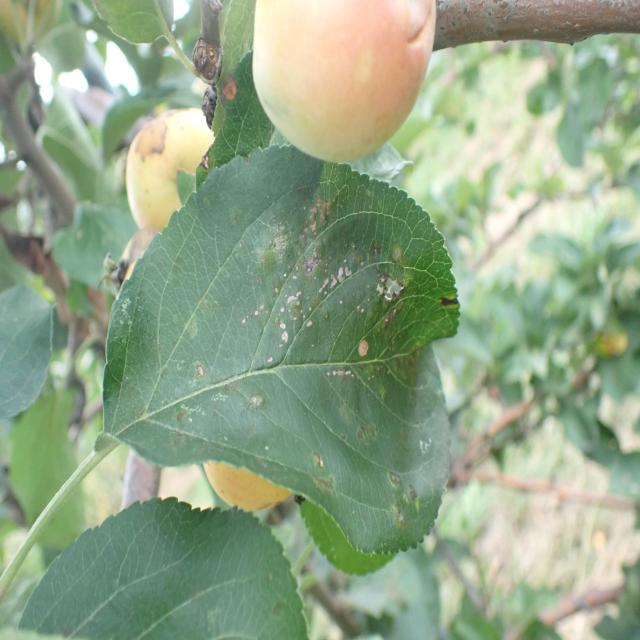frog-eye-leaf-spot: (103, 142, 462, 557)
